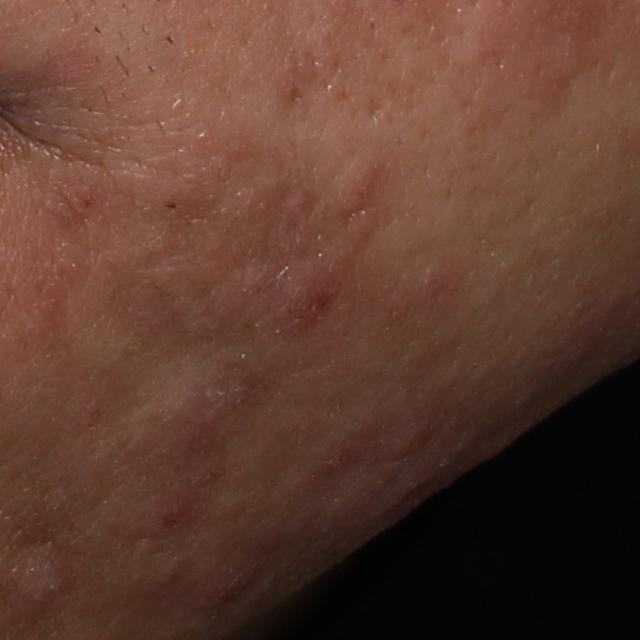papule: (5, 539, 75, 633), (143, 483, 209, 543), (383, 420, 436, 462)
